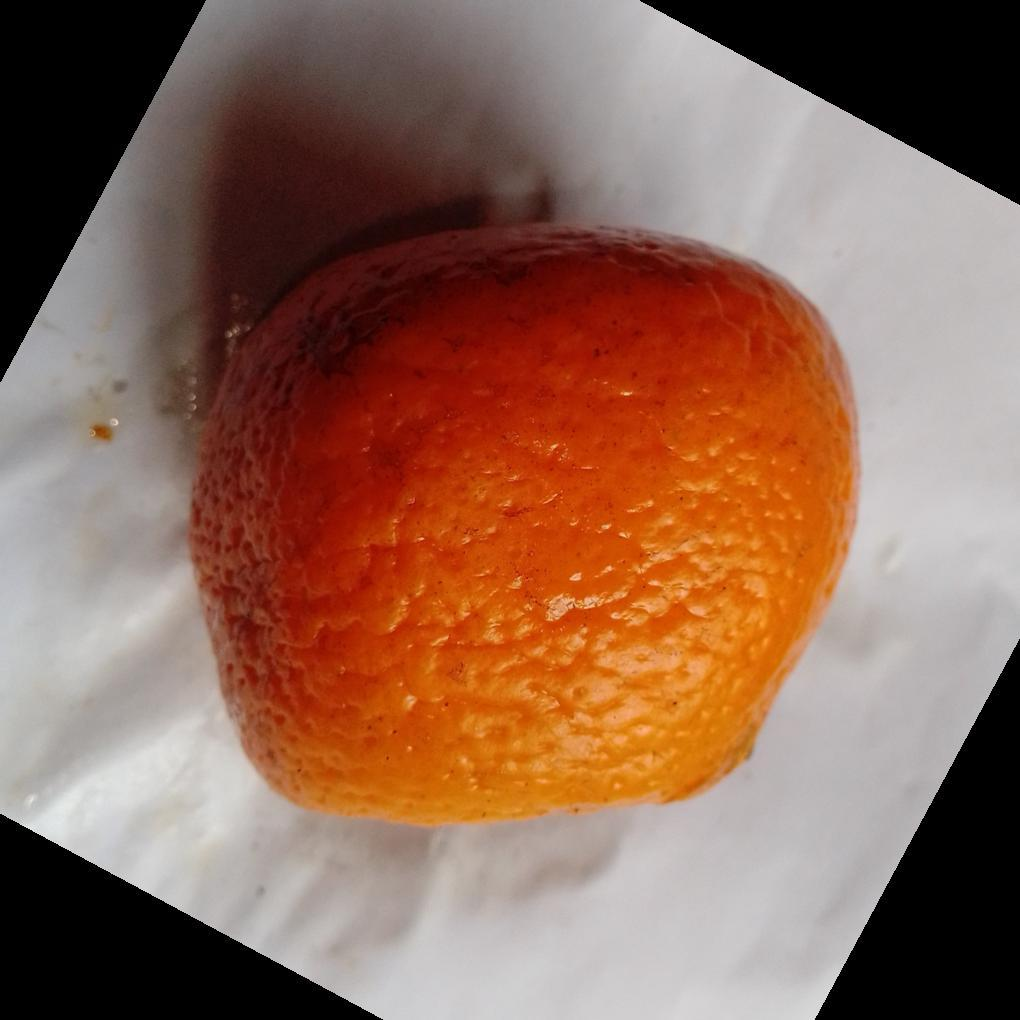FreshOrange: (186, 216, 864, 833)
